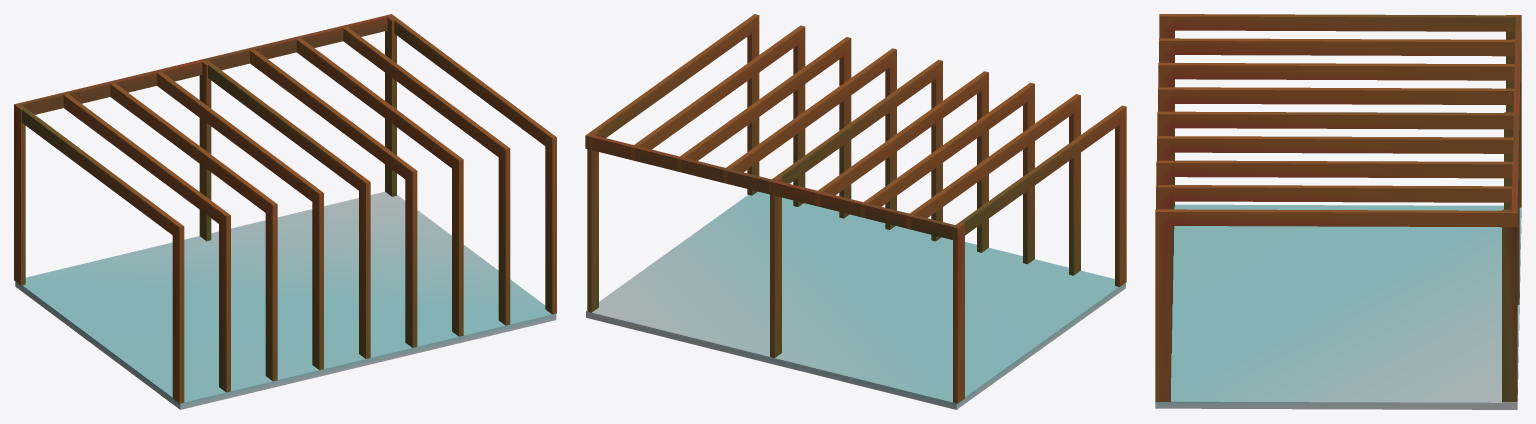
The picture shows the model from 3 angles, left to right: view 1: azimuth 30°, elevation 25°; view 2: azimuth 150°, elevation 25°; view 3: azimuth 270°, elevation 25°; orthographic projection. The views are drawn at different scales.
Visible parts, largest first — view 1: slab, upper_rail, upright.006, upright.003, upright.008, upright.001, upright.002, upright.007, upright.004, upright.009, upright.005; view 2: slab, upper_rail, upright.001, upright.002, upright.003, upright.004, upright.007, upright.008, upright.009, upright.006, upright.005; view 3: slab, upright.009, upright.007, upright.008, upright.005, upright.006, upright.003, upright.004, upright.002, upright.001, upper_rail.
Boxes of the visible parts, x1=… form: slab: x1=15, y1=191, x2=556, y2=409; upper_rail: x1=14, y1=14, x2=396, y2=285; upright.006: x1=250, y1=49, x2=417, y2=347; upright.003: x1=110, y1=83, x2=277, y2=381; upright.008: x1=343, y1=27, x2=510, y2=325; upright.001: x1=21, y1=105, x2=184, y2=403; upright.002: x1=63, y1=94, x2=230, y2=392; upright.007: x1=296, y1=38, x2=463, y2=336; upright.004: x1=157, y1=71, x2=323, y2=369; upright.009: x1=390, y1=14, x2=556, y2=314; upright.005: x1=207, y1=60, x2=370, y2=358; slab: x1=586, y1=191, x2=1125, y2=409; upper_rail: x1=587, y1=131, x2=964, y2=403; upright.001: x1=952, y1=105, x2=1126, y2=286; upright.002: x1=906, y1=94, x2=1080, y2=275; upright.003: x1=860, y1=82, x2=1034, y2=264; upright.004: x1=815, y1=71, x2=988, y2=252; upright.007: x1=677, y1=37, x2=851, y2=218; upright.008: x1=631, y1=25, x2=805, y2=206; upright.009: x1=585, y1=14, x2=759, y2=195; upright.006: x1=723, y1=48, x2=896, y2=229; upright.005: x1=769, y1=59, x2=942, y2=241; slab: x1=1155, y1=204, x2=1521, y2=409; upright.009: x1=1155, y1=209, x2=1517, y2=401; upright.007: x1=1156, y1=160, x2=1518, y2=353; upright.008: x1=1156, y1=185, x2=1512, y2=377; upright.005: x1=1157, y1=111, x2=1519, y2=304; upright.006: x1=1157, y1=136, x2=1513, y2=328; upright.003: x1=1158, y1=63, x2=1520, y2=255; upright.004: x1=1158, y1=87, x2=1514, y2=279; upright.002: x1=1159, y1=38, x2=1515, y2=230; upright.001: x1=1159, y1=14, x2=1521, y2=206; upper_rail: x1=1502, y1=15, x2=1521, y2=402.
Size of the model in its own units: 4.04 by 1.87 by 3.14.
